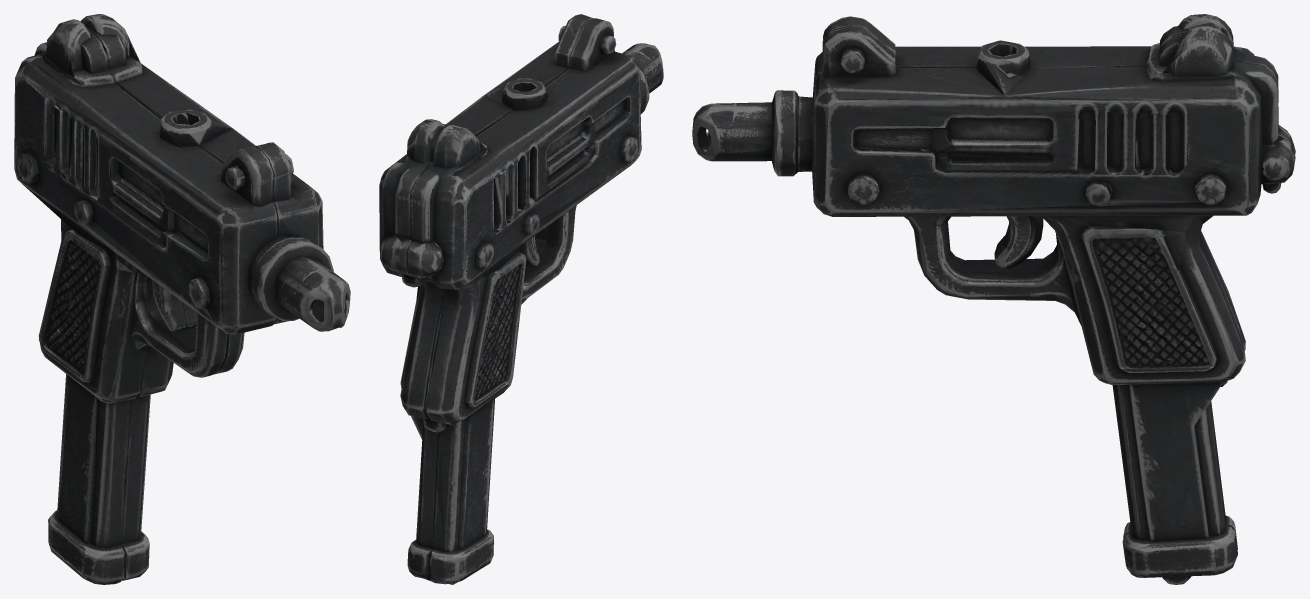
Rendered from gun_macdaddy.glb.
The picture shows the model from 3 angles, left to right: view 1: azimuth 30°, elevation 25°; view 2: azimuth 150°, elevation 25°; view 3: azimuth 270°, elevation 25°; orthographic projection. The views are drawn at different scales.
Bounding box in the file's own units: 0.0902 × 0.396 × 0.3859.
1 material, 1 textured.
